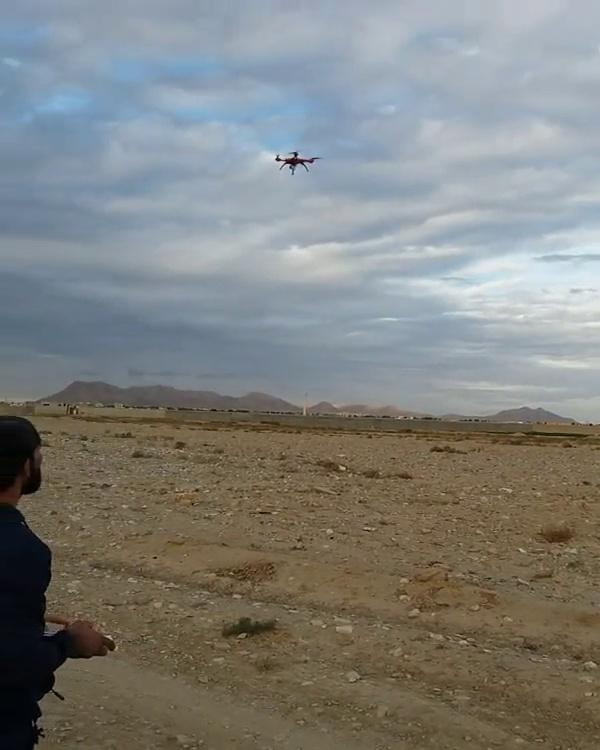drone: (270, 145, 323, 177)
